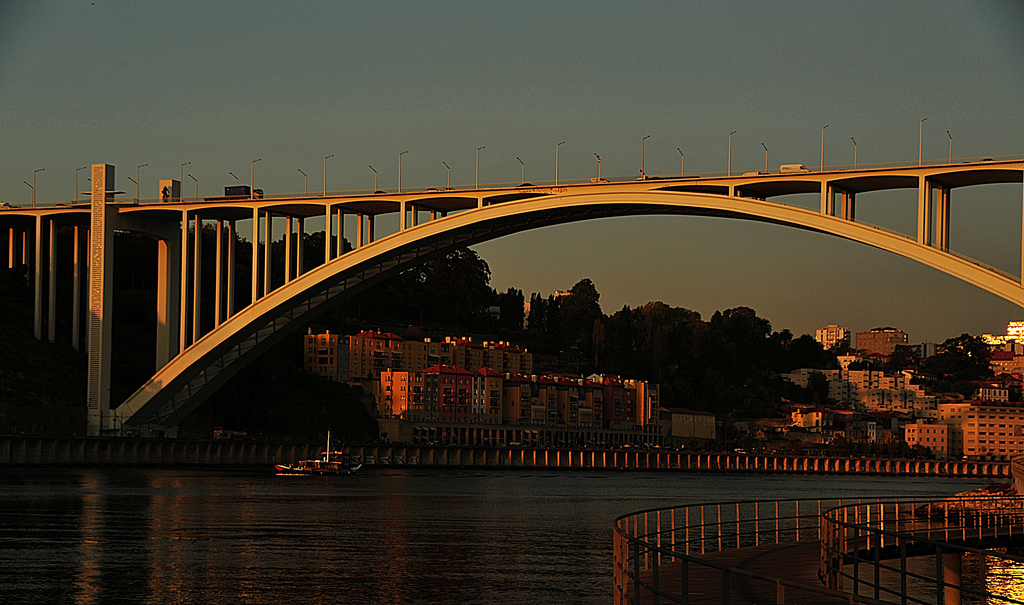arrabida: (0, 154, 1023, 439)
